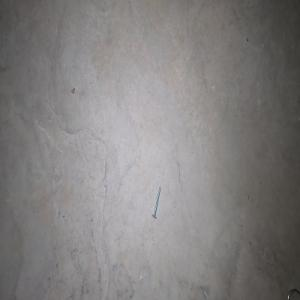Bolt: (151, 185, 161, 219)
